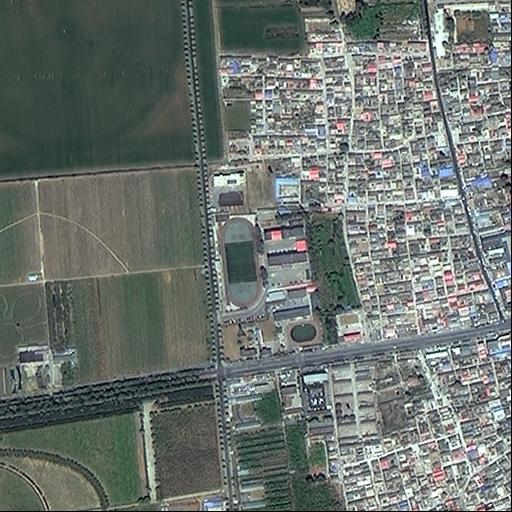school: (214, 206, 311, 326), (262, 285, 325, 354)
